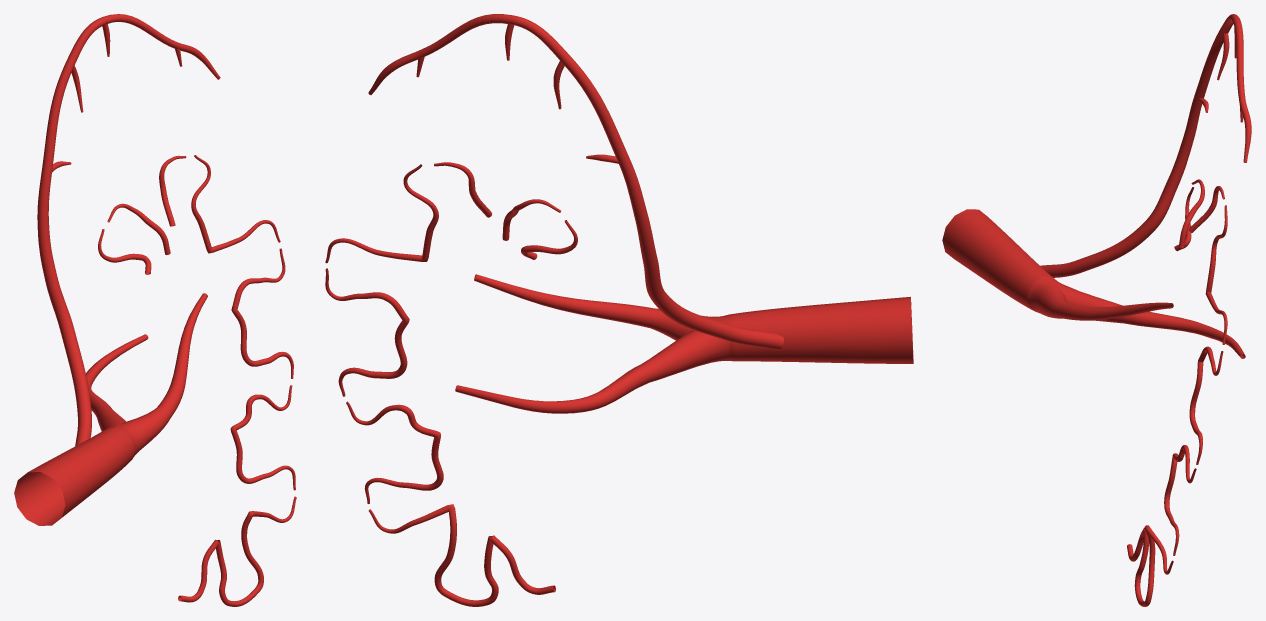
File: circulatorio-left-renal-artery.glb
3 views of the same model, side by side, from view 1: azimuth 30°, elevation 25°; view 2: azimuth 150°, elevation 25°; view 3: azimuth 270°, elevation 25° (orthographic). The views are drawn at different scales.
Parts seen in each view (by area): view 1: Inferior suprarenal artery.l, Intrarenal arteries of left kidney, Left renal artery, Anterior branch of renal artery.l, Posterior branch of renal artery.l; view 2: Left renal artery, Intrarenal arteries of left kidney, Inferior suprarenal artery.l, Posterior branch of renal artery.l, Anterior branch of renal artery.l; view 3: Inferior suprarenal artery.l, Left renal artery, Intrarenal arteries of left kidney, Posterior branch of renal artery.l, Anterior branch of renal artery.l.
Boxes of the visible parts, box(x1,y1,x2,y2) form: Inferior suprarenal artery.l: box(37, 14, 220, 445); Intrarenal arteries of left kidney: box(98, 155, 296, 606); Left renal artery: box(14, 427, 134, 525); Anterior branch of renal artery.l: box(108, 293, 207, 457); Posterior branch of renal artery.l: box(86, 334, 148, 457); Left renal artery: box(730, 296, 913, 363); Intrarenal arteries of left kidney: box(325, 162, 577, 606); Inferior suprarenal artery.l: box(368, 14, 783, 349); Posterior branch of renal artery.l: box(455, 314, 734, 413); Anterior branch of renal artery.l: box(474, 274, 734, 358); Inferior suprarenal artery.l: box(1040, 14, 1251, 277); Left renal artery: box(942, 209, 1051, 310); Intrarenal arteries of left kidney: box(1127, 179, 1227, 606); Posterior branch of renal artery.l: box(1027, 276, 1245, 358); Anterior branch of renal artery.l: box(1029, 276, 1173, 320).
Bounding box in the file's own units: 0.0766 × 0.1072 × 0.0551.
